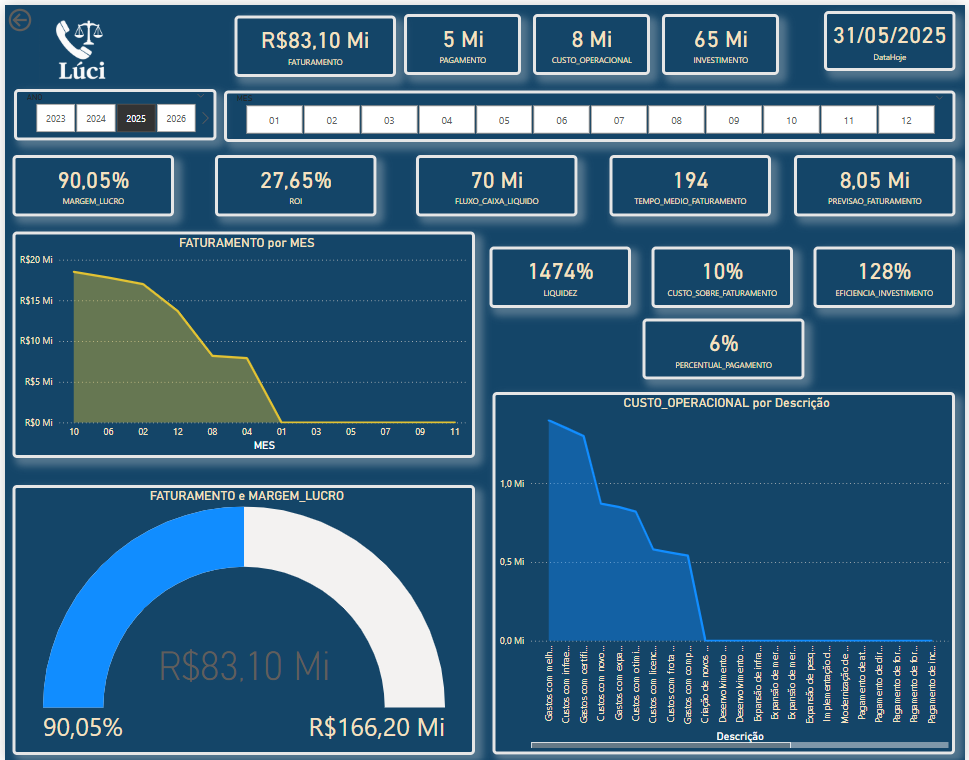

What the dashboard file says about the page in this screenshot:
{"tool":"powerbi","page":{"name":"FINANCEIRO","canvas":[1280,1010],"ordinal":2},"visuals":[{"type":"slicer","fields":{"Values":["Dados financeiros.MES"]},"box":[291.7,113.3,975,68.3],"z":0},{"type":"slicer","fields":{"Values":["Dados financeiros.ANO"]},"box":[11.4,112.9,270,68.6],"z":1000},{"type":"card","fields":{"Values":["3 MEDIDA FINANCEIRO.FATURAMENTO"]},"box":[305,13.3,215,81.7],"z":2000},{"type":"card","fields":{"Values":["3 MEDIDA FINANCEIRO.CUSTO_OPERACIONAL"]},"box":[704.4,11.1,156,81],"z":3000},{"type":"card","fields":{"Values":["3 MEDIDA FINANCEIRO.PAGAMENTOL"]},"box":[531.1,11.1,156,81],"z":4000},{"type":"card","fields":{"Values":["3 MEDIDA FINANCEIRO.INVESTIMENTO"]},"box":[876.7,11.1,156,81],"z":5000},{"type":"card","fields":{"Values":["1 MEDIDAS CONTRATOS.DataHoje"]},"box":[1091.7,8.3,175,80],"z":6000},{"type":"actionButton","box":[0,0,100,40],"z":7000},{"type":"image","box":[0,0,208.3,126.7],"z":8000},{"type":"card","fields":{"Values":["3 MEDIDA FINANCEIRO.MARGEM_LUCRO"]},"box":[10,200,215,81.7],"z":9000},{"type":"card","fields":{"Values":["3 MEDIDA FINANCEIRO.ROI"]},"box":[280,200,215,81.7],"z":10000},{"type":"card","fields":{"Values":["3 MEDIDA FINANCEIRO.FLUXO_CAIXA_LIQUIDO"]},"box":[548.3,200,215,81.7],"z":11000},{"type":"card","fields":{"Values":["3 MEDIDA FINANCEIRO.TEMPO_MEDIO_FATURAMENTO"]},"box":[806.7,200,215,81.7],"z":12000},{"type":"card","fields":{"Values":["3 MEDIDA FINANCEIRO.PREVISAO_FATURAMENTO"]},"box":[1051.7,200,215,81.7],"z":13000},{"type":"areaChart","fields":{"Category":["Dados_Financeiros.MES"],"Y":["3 MEDIDA FINANCEIRO.FATURAMENTO"]},"box":[10,301.7,616.7,301.7],"z":14000},{"type":"card","fields":{"Values":["3 MEDIDA FINANCEIRO.LIQUIDEZ"]},"box":[645,321.7,188.3,81.7],"z":15000},{"type":"card","fields":{"Values":["3 MEDIDA FINANCEIRO.CUSTO_SOBRE_FATURAMENTO"]},"box":[861.7,321.7,188.3,81.7],"z":16000},{"type":"card","fields":{"Values":["3 MEDIDA FINANCEIRO.EFICIENCIA_INVESTIMENTO"]},"box":[1078.3,321.7,188.3,81.7],"z":17000},{"type":"card","fields":{"Values":["3 MEDIDA FINANCEIRO.PERCENTUAL_PAGAMENTO"]},"box":[850,418.6,215.7,81.4],"z":18000},{"type":"areaChart","fields":{"Y":["3 MEDIDA FINANCEIRO.CUSTO_OPERACIONAL"],"Category":["Dados_Financeiros.Descrição"]},"box":[650,516.7,616.7,483.3],"z":19000},{"type":"gauge","fields":{"Y":["3 MEDIDA FINANCEIRO.FATURAMENTO"],"MinValue":["3 MEDIDA FINANCEIRO.MARGEM_LUCRO"]},"box":[10,640,616.7,360],"z":20000}]}

Visuals, with their boxes in screenshot pixels (x1, y1, x2, y2), scaled from the page's 1280x1010 canvas onto the 969x760 screenshot:
slicer - Dados financeiros.MES: select_region(221, 85, 959, 137)
slicer - Dados financeiros.ANO: select_region(9, 85, 213, 137)
card - 3 MEDIDA FINANCEIRO.FATURAMENTO: select_region(231, 10, 394, 71)
card - 3 MEDIDA FINANCEIRO.CUSTO_OPERACIONAL: select_region(533, 8, 651, 69)
card - 3 MEDIDA FINANCEIRO.PAGAMENTOL: select_region(402, 8, 520, 69)
card - 3 MEDIDA FINANCEIRO.INVESTIMENTO: select_region(664, 8, 782, 69)
card - 1 MEDIDAS CONTRATOS.DataHoje: select_region(826, 6, 959, 66)
actionButton: select_region(0, 0, 76, 30)
image: select_region(0, 0, 158, 95)
card - 3 MEDIDA FINANCEIRO.MARGEM_LUCRO: select_region(8, 150, 170, 212)
card - 3 MEDIDA FINANCEIRO.ROI: select_region(212, 150, 375, 212)
card - 3 MEDIDA FINANCEIRO.FLUXO_CAIXA_LIQUIDO: select_region(415, 150, 578, 212)
card - 3 MEDIDA FINANCEIRO.TEMPO_MEDIO_FATURAMENTO: select_region(611, 150, 773, 212)
card - 3 MEDIDA FINANCEIRO.PREVISAO_FATURAMENTO: select_region(796, 150, 959, 212)
areaChart - Dados_Financeiros.MES x 3 MEDIDA FINANCEIRO.FATURAMENTO: select_region(8, 227, 474, 454)
card - 3 MEDIDA FINANCEIRO.LIQUIDEZ: select_region(488, 242, 631, 304)
card - 3 MEDIDA FINANCEIRO.CUSTO_SOBRE_FATURAMENTO: select_region(652, 242, 795, 304)
card - 3 MEDIDA FINANCEIRO.EFICIENCIA_INVESTIMENTO: select_region(816, 242, 959, 304)
card - 3 MEDIDA FINANCEIRO.PERCENTUAL_PAGAMENTO: select_region(643, 315, 807, 376)
areaChart - 3 MEDIDA FINANCEIRO.CUSTO_OPERACIONAL x Dados_Financeiros.Descrição: select_region(492, 389, 959, 752)
gauge - 3 MEDIDA FINANCEIRO.FATURAMENTO x 3 MEDIDA FINANCEIRO.MARGEM_LUCRO: select_region(8, 482, 474, 752)
